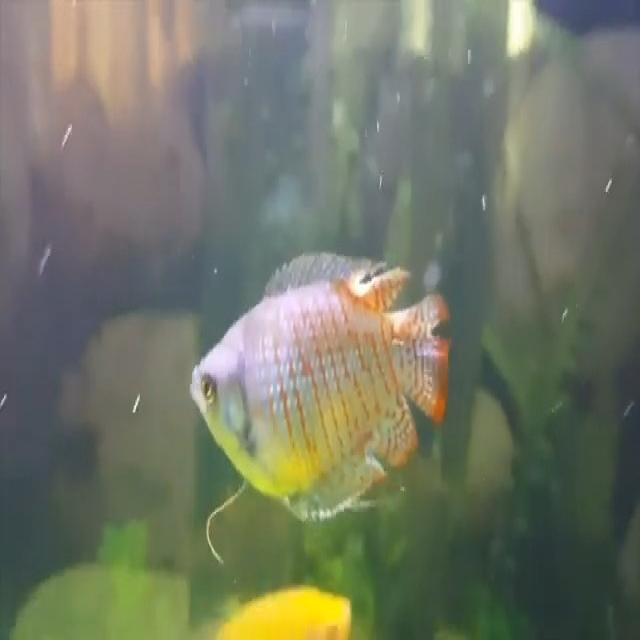fish: (190, 250, 456, 528)
